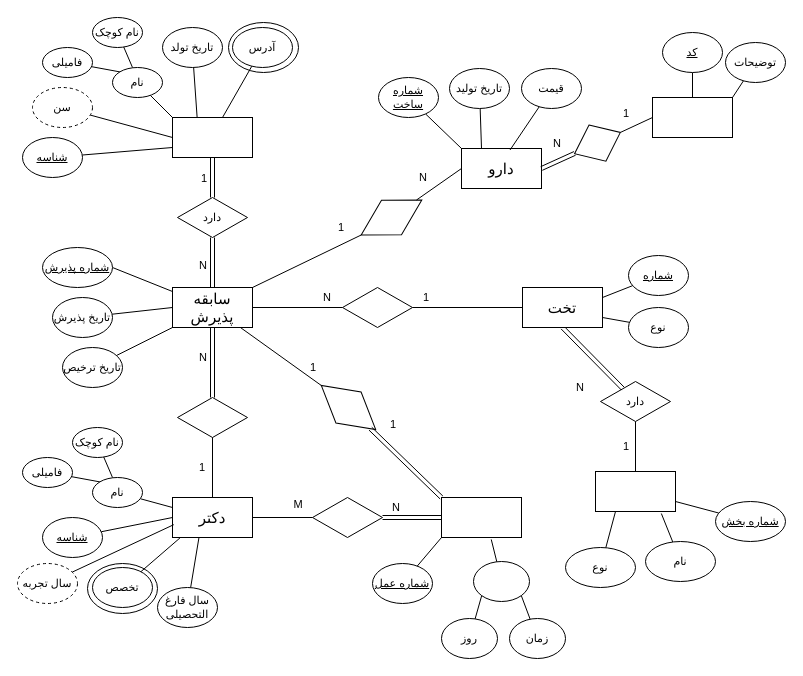
Some shapes in this 803 by 676 pixel diagram are drawn without their labels. The centre of each missing label's shape, as x and y in pixels:
"بخش" belongs at pixel 635 491.
"برای" belongs at pixel 212 417.
"بستری" belongs at pixel 377 307.
"بیمار" belongs at pixel 212 137.
"تاریخ" belongs at pixel 501 581.
"جراحی" belongs at pixel 348 407.
"حضور دارد" belongs at pixel 347 517.
"ساخته" belongs at pixel 597 142.
"عمل" belongs at pixel 481 517.
"مصرف" belongs at pixel 391 217.
"نوع دارو" belongs at pixel 692 117.
